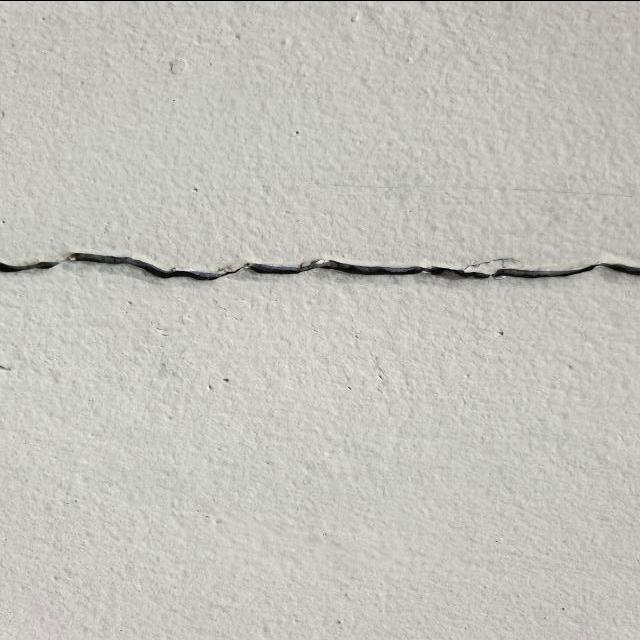SurfaceCrack: (1, 199, 640, 342)
